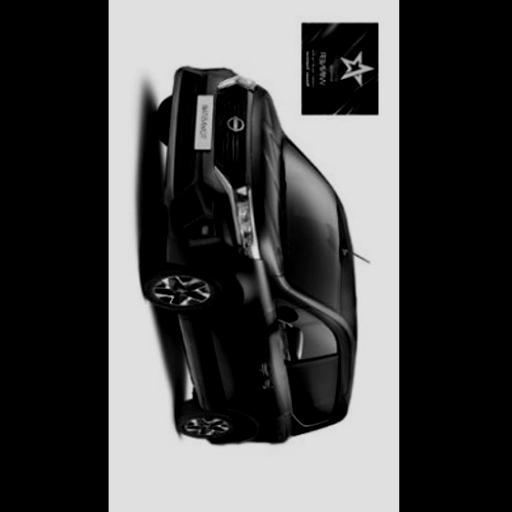van: (142, 69, 355, 444)
